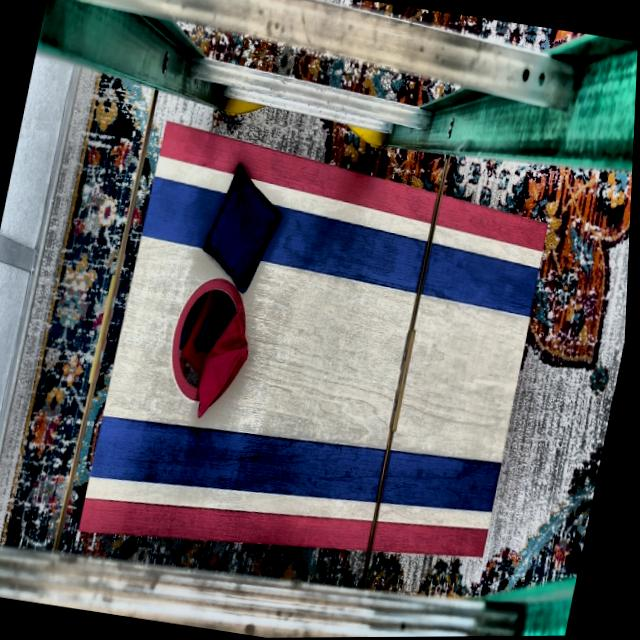blue-bean-bag: (197, 162, 294, 298)
blue-bean-bag-in-hole: (195, 293, 243, 357), (181, 290, 210, 348)
board: (91, 164, 552, 558)
hole: (165, 272, 259, 409)
red-bean-bag: (195, 306, 262, 425)
red-bean-bag-in-hole: (181, 290, 224, 374)
